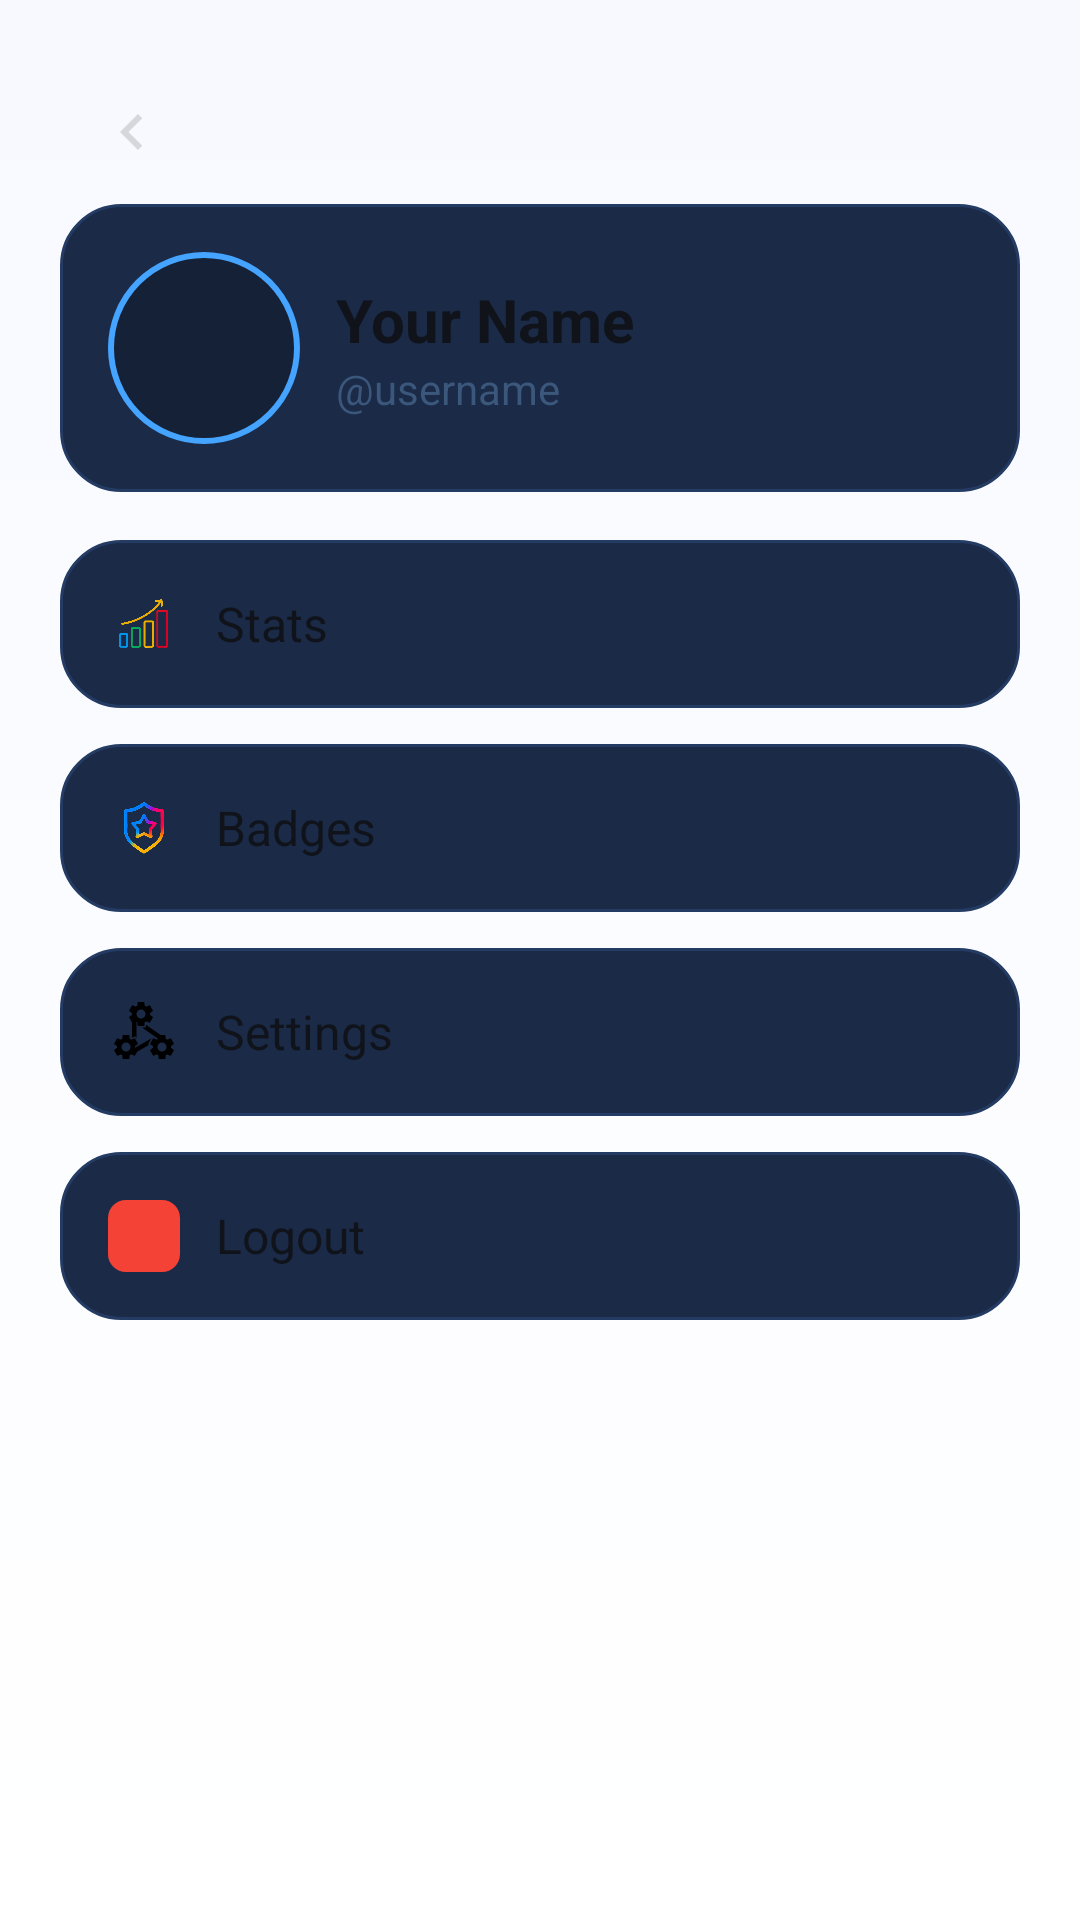

Icons on this 1080 × 1920 Android screen, each with its box as box(x1, y1, x2, y2):
back chevron: box(121, 115, 142, 149)
